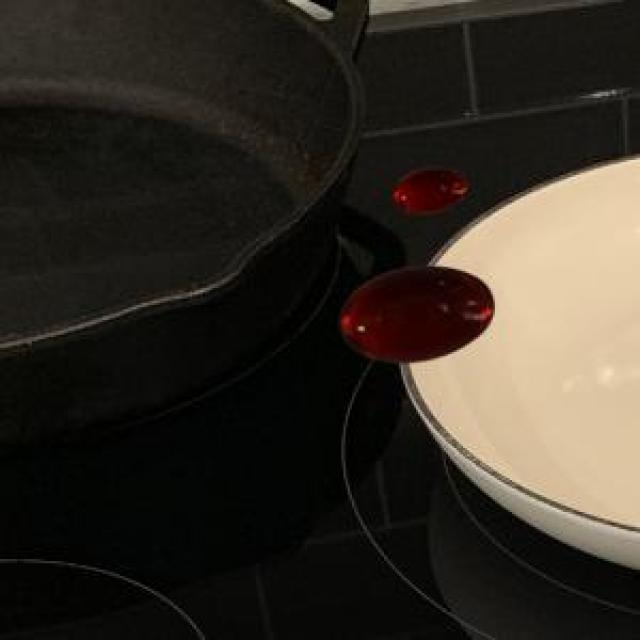Medicol: (320, 251, 500, 382), (371, 146, 482, 227)
